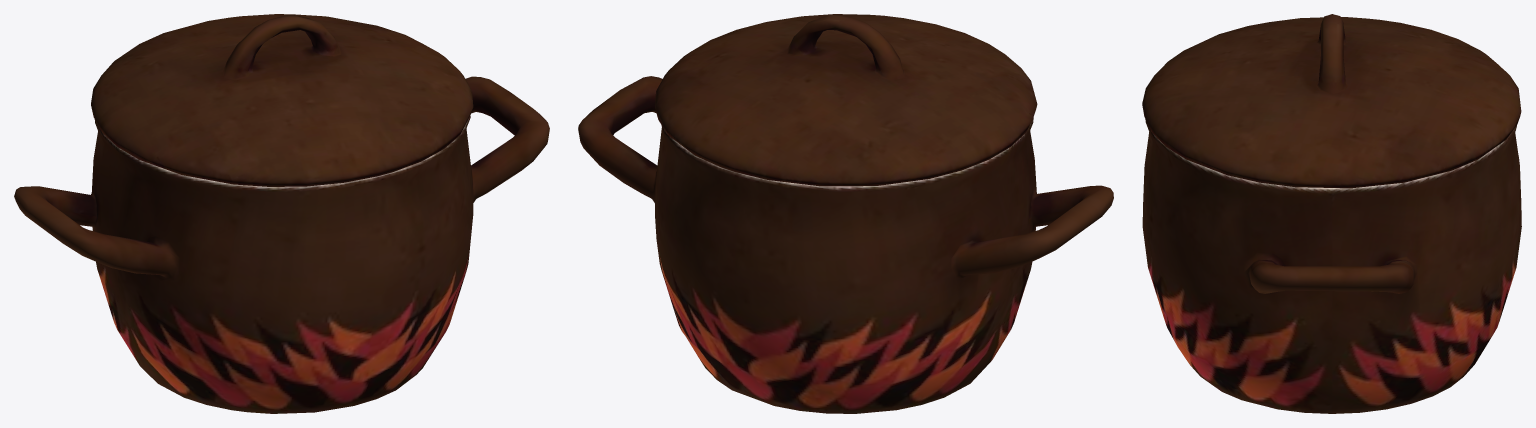
File: pot_enamel_01.glb
The picture shows the model from 3 angles, left to right: view 1: azimuth 30°, elevation 25°; view 2: azimuth 150°, elevation 25°; view 3: azimuth 270°, elevation 25°; orthographic projection.
Parts seen in each view (by area): view 1: pot_enamel_01_lid; view 2: pot_enamel_01_lid; view 3: pot_enamel_01_lid.
Boxes of the visible parts, bbox=[...] form: pot_enamel_01_lid: bbox=[14, 14, 549, 413]; pot_enamel_01_lid: bbox=[578, 14, 1113, 413]; pot_enamel_01_lid: bbox=[1142, 14, 1521, 413].
Size of the model in its own units: 0.2627 by 0.1782 by 0.1803.
Materials: 1 (1 with a texture image).
